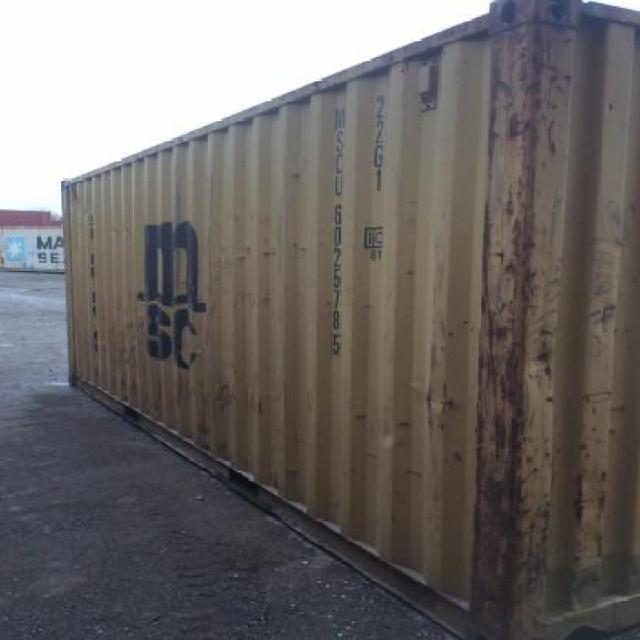ISO: (368, 84, 386, 194)
container_number: (324, 100, 352, 378)
